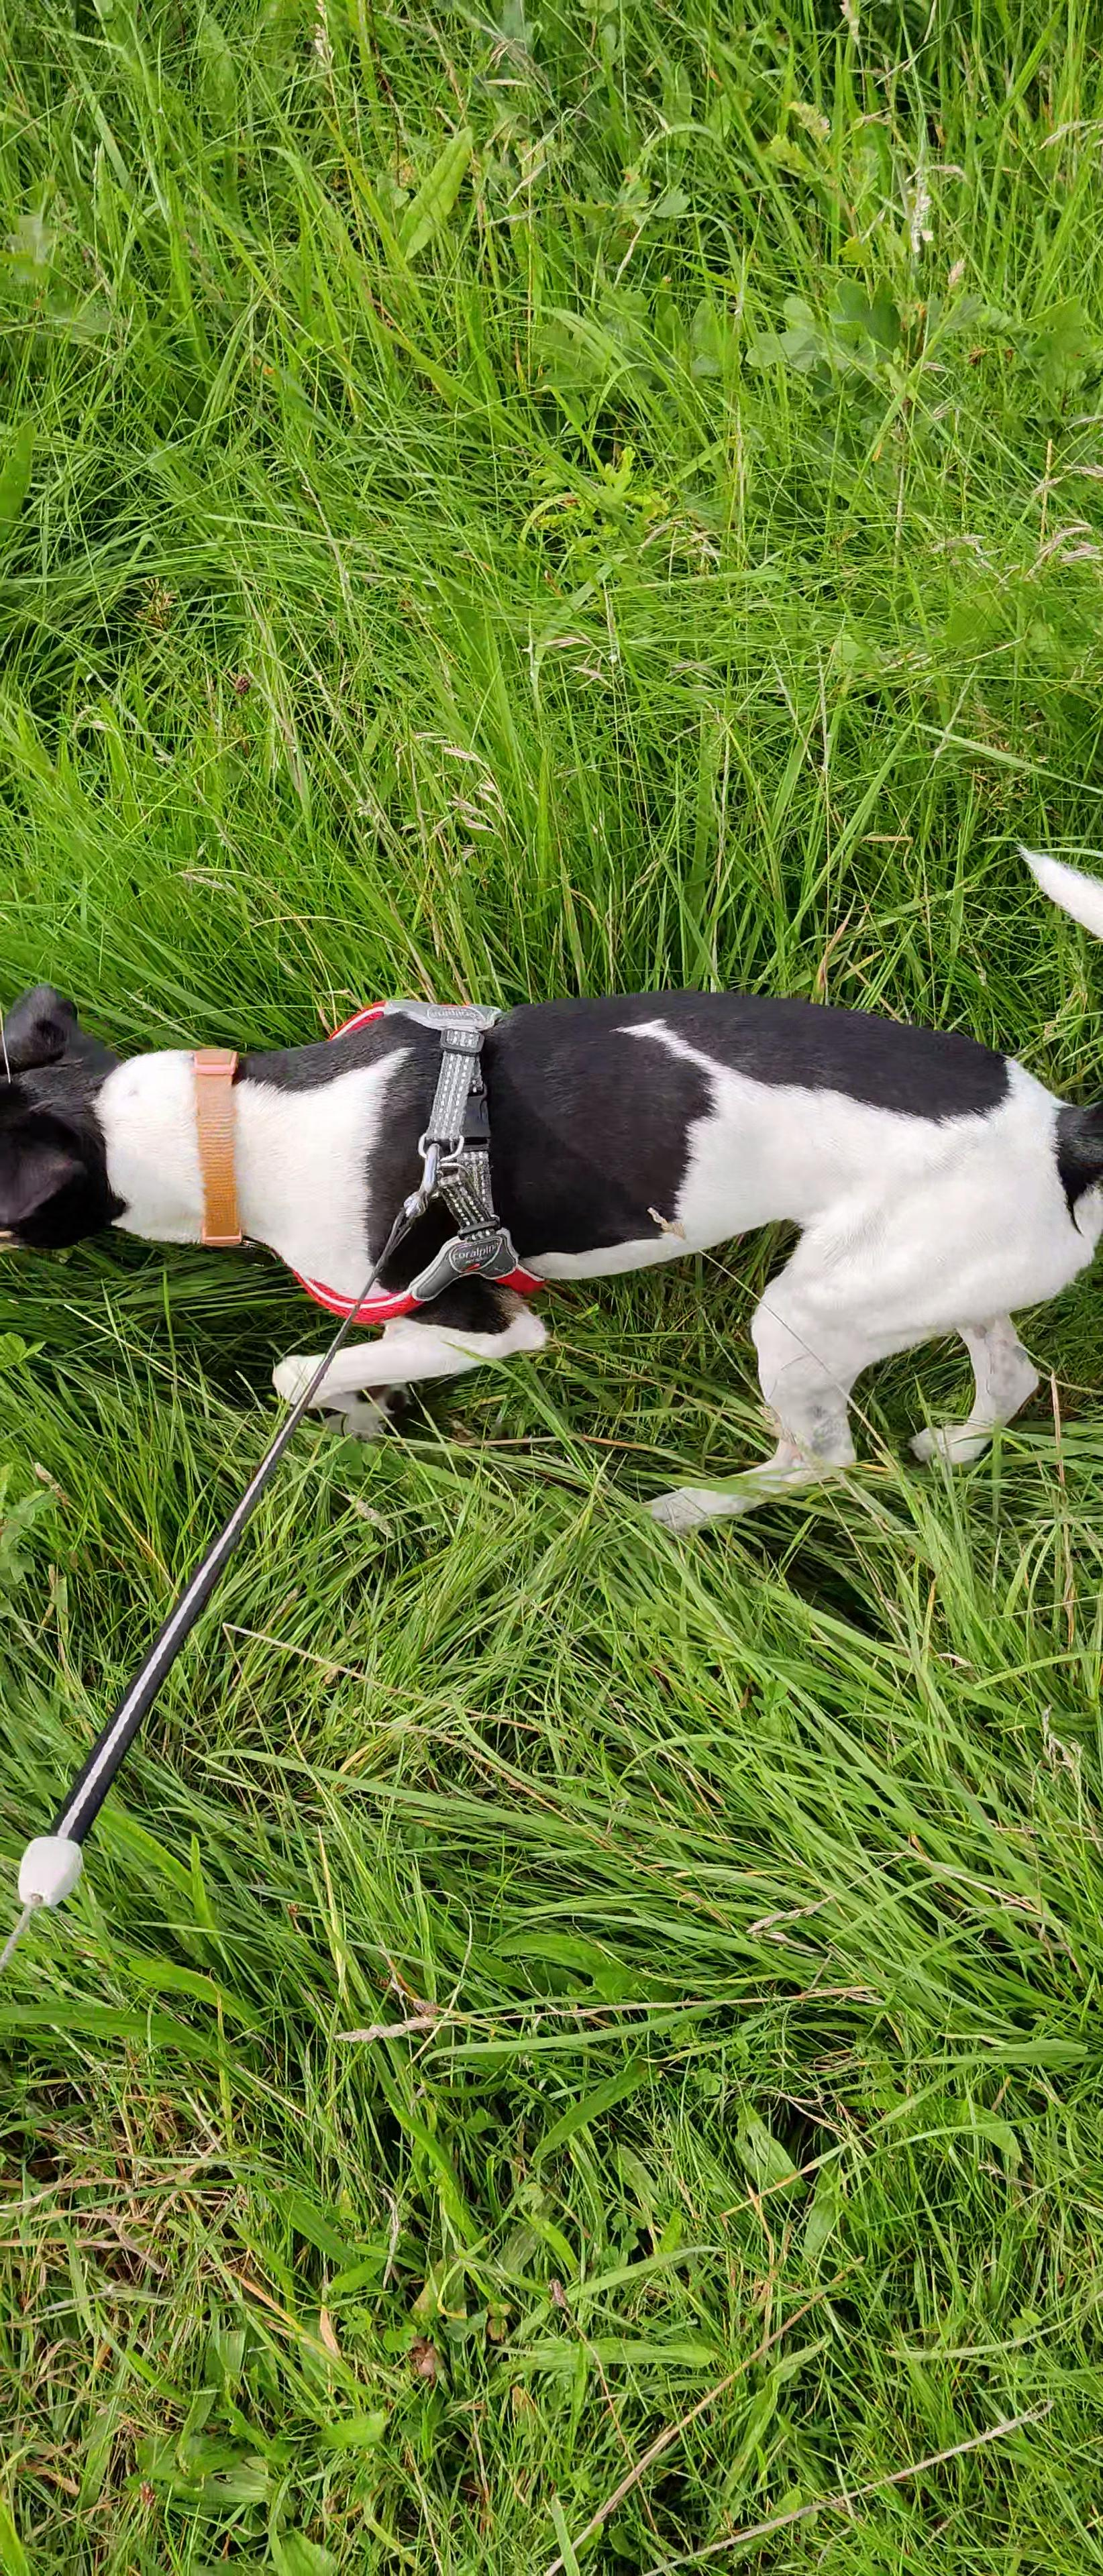Dog: (0, 835, 1103, 1549)
